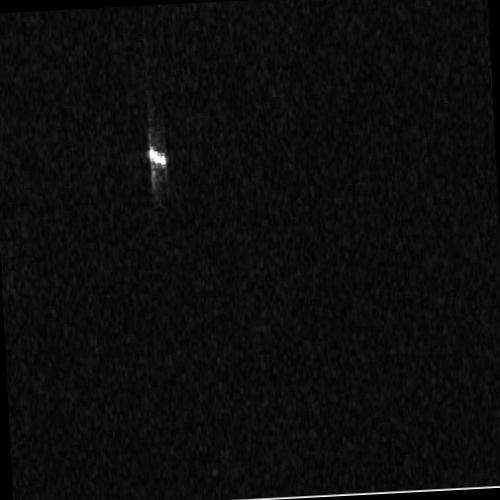ship: (148, 147, 167, 165)
